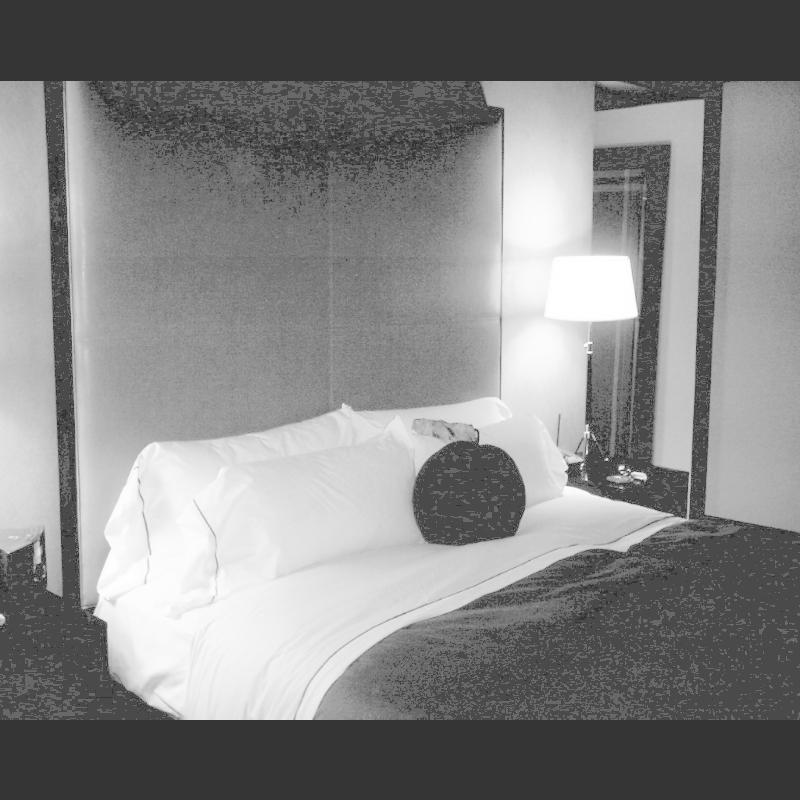pillow: (101, 401, 358, 623), (158, 423, 418, 613), (392, 414, 566, 504), (360, 394, 534, 436)
